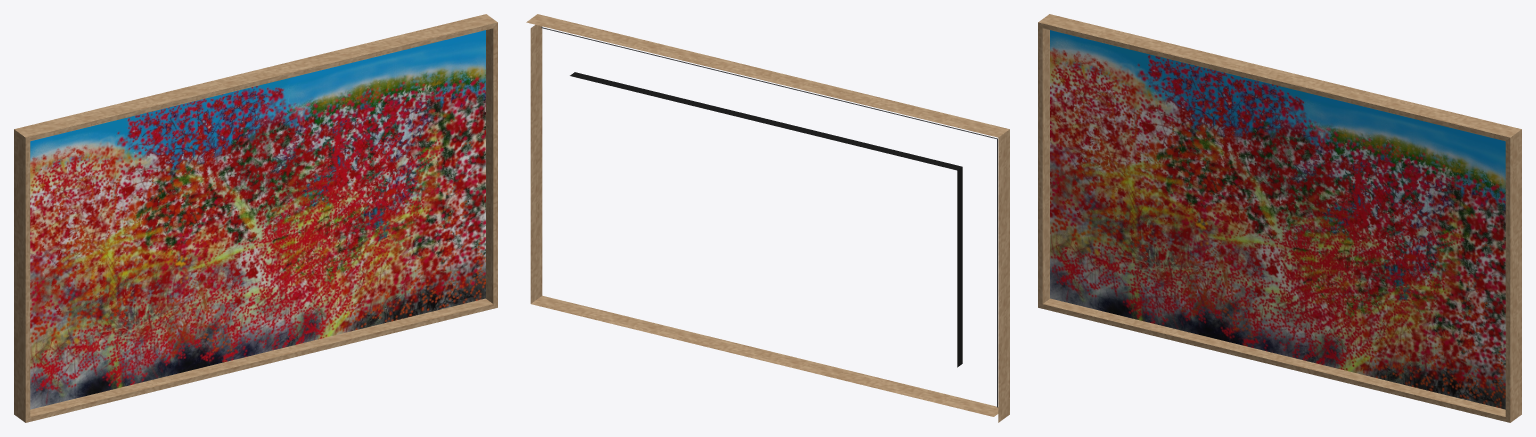
The model's file is hz028_moyen_caisse-chene.glb.
3 views of the same model, side by side, from view 1: azimuth 30°, elevation 25°; view 2: azimuth 150°, elevation 25°; view 3: azimuth 330°, elevation 25° (orthographic).
Visible parts, largest first — view 1: hz028_moyen_caisse-chene; view 2: hz028_moyen_caisse-chene; view 3: hz028_moyen_caisse-chene.
Boxes of the visible parts, x1,y1,x2,y2 form: hz028_moyen_caisse-chene: (14, 14, 497, 422); hz028_moyen_caisse-chene: (526, 14, 1009, 422); hz028_moyen_caisse-chene: (1038, 14, 1521, 422).
Bounding box in the file's own units: 0.828 × 0.478 × 0.035.
4 materials, 2 textured.
